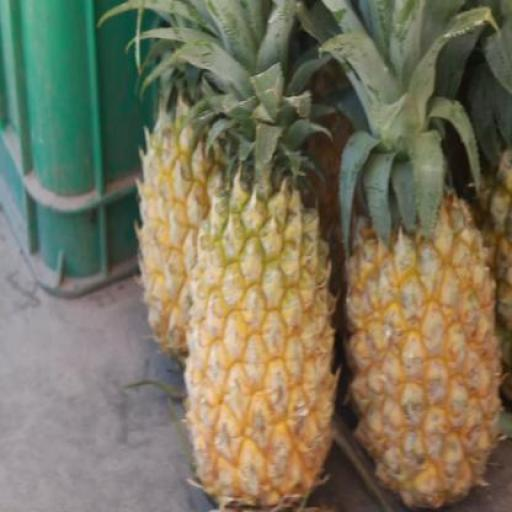Pineapple - v8 v1: (348, 204, 500, 506), (192, 199, 330, 509), (138, 118, 232, 368)
